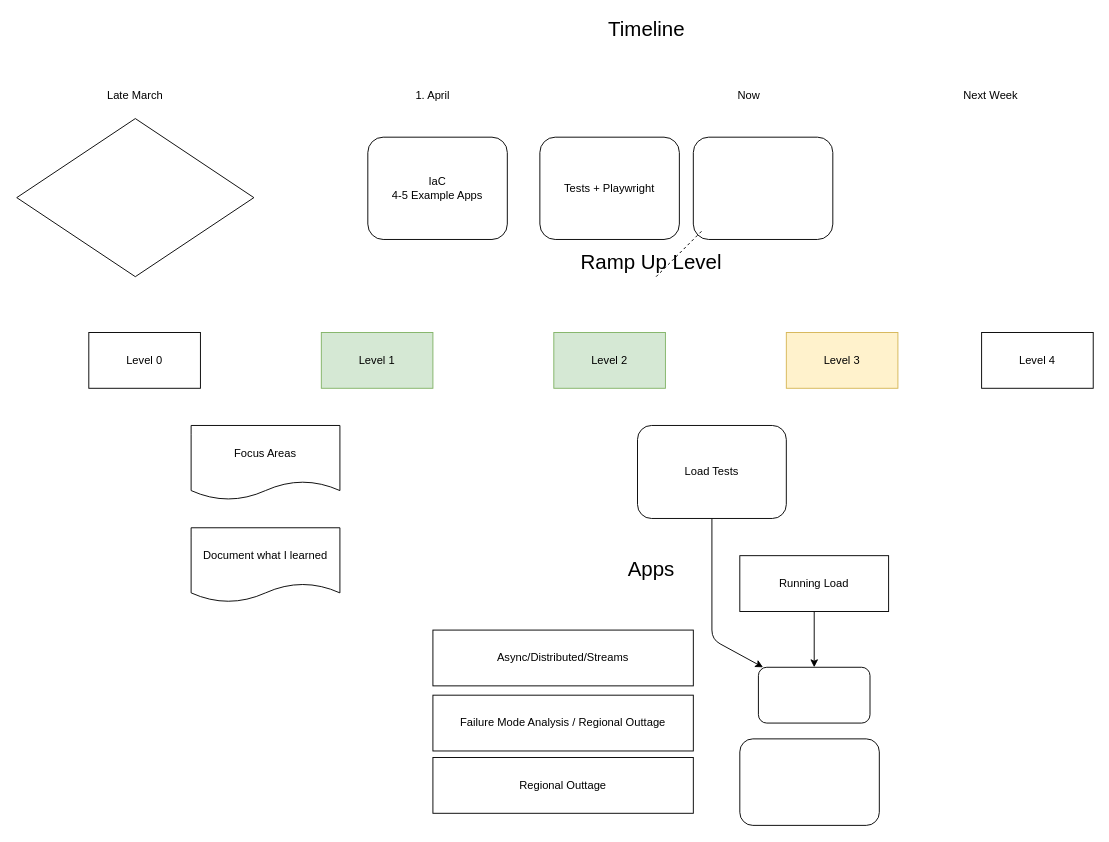
Image size: 1109x842. Some labels were removed from this diagram. The box of each missing label's shape, as (x1, y1, x2, y2) in pixels:
Chaos Monkey: (757, 666, 870, 723)
Recovery Observation: (739, 738, 879, 825)
Scaling / Stability: (692, 136, 833, 239)
